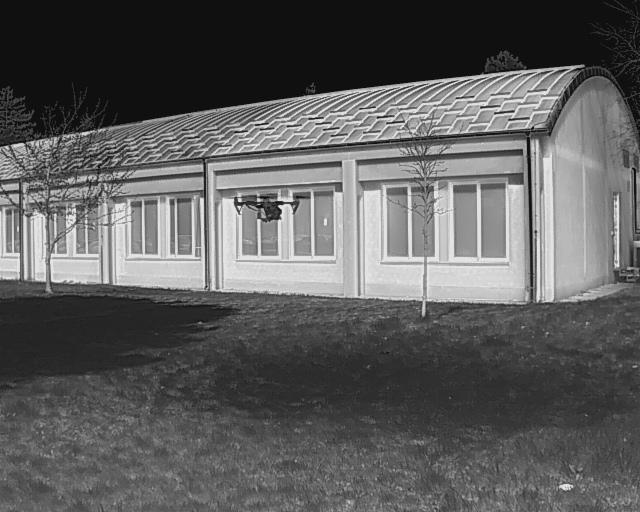drone: (231, 195, 300, 230)
